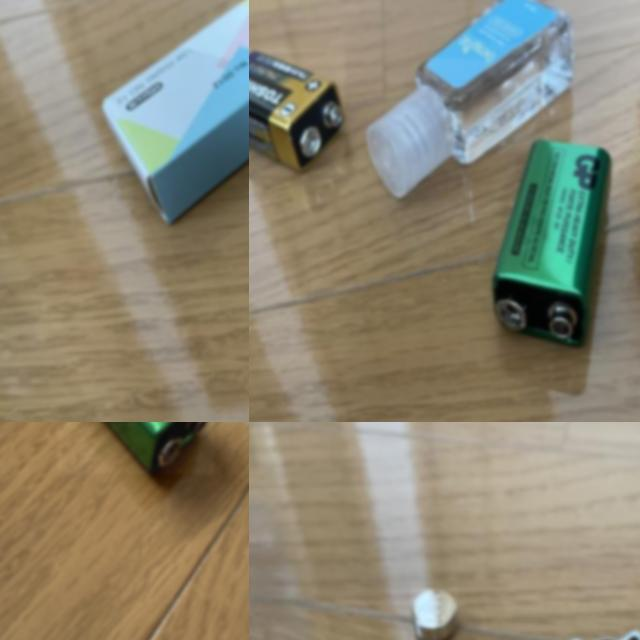9V: (494, 140, 613, 349), (249, 49, 345, 175), (58, 422, 213, 474)
